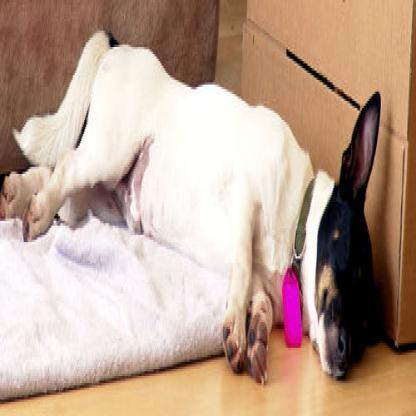dog: (0, 26, 381, 388)
